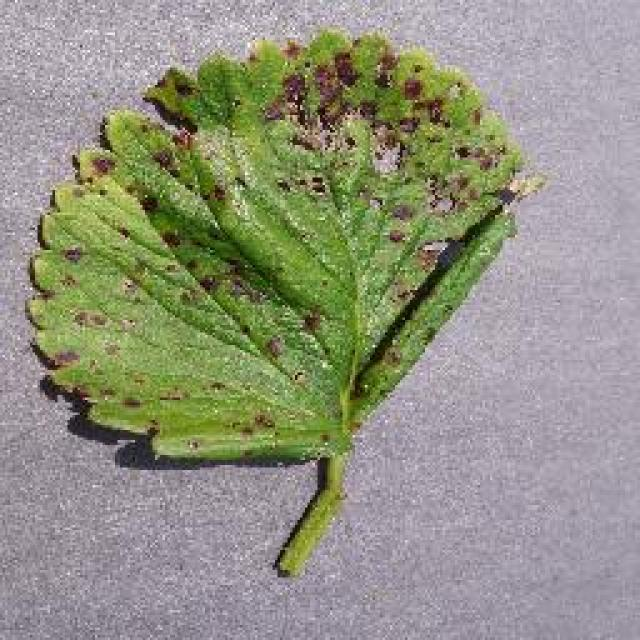Strawberry leaf scorch: (73, 93, 487, 372)
